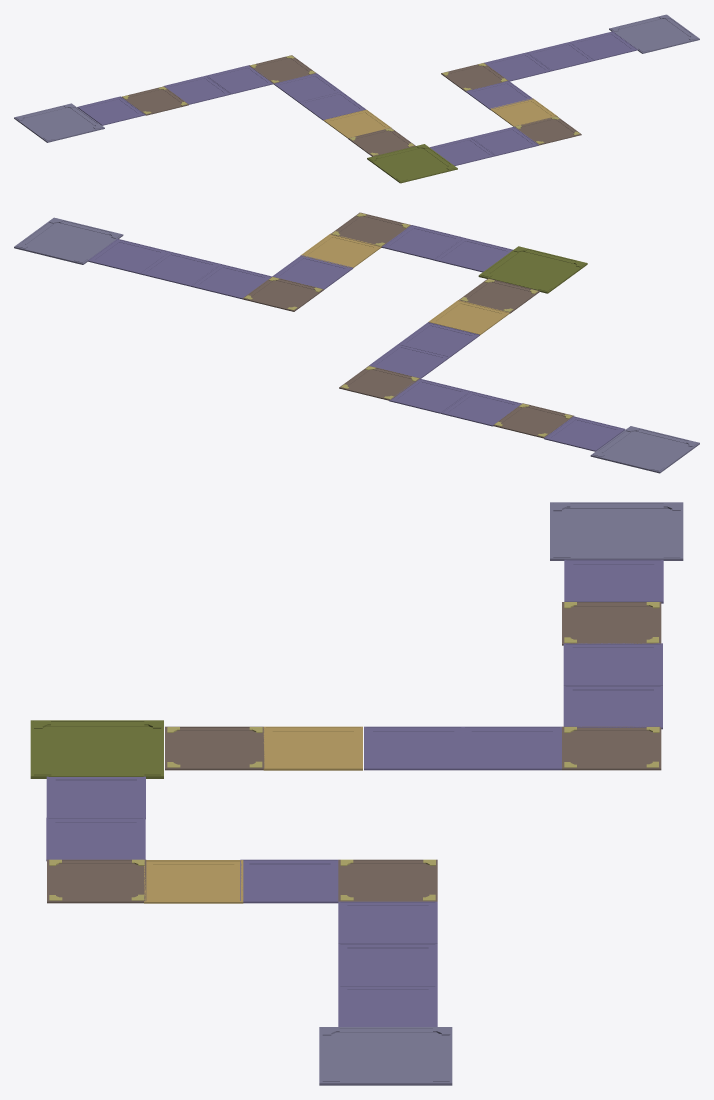
Rendered from map_stage_01.fbx.
3 views of the same model, one above another, from view 1: azimuth 30°, elevation 25°; view 2: azimuth 150°, elevation 25°; view 3: azimuth 270°, elevation 25° (orthographic). The views are drawn at different scales.
Visible parts, largest first — view 1: B_10, B_20, start, B_19, B_18, B_03, B_08, B_02, B_07, B_01, B_11, B_17 (+9 smaller); view 2: B_20, start, B_10, B_04, B_19, B_02, B_15, B_03, B_17, B_08, B_16, B_18 (+9 smaller); view 3: start, B_20, B_10, B_07, B_13, B_15, B_11, B_14, B_12, B_06, B_05, B_19 (+9 smaller).
Boxes of the visible parts, x1,y1,x2,y2 form: B_10: (367, 144, 457, 183); B_20: (14, 103, 104, 142); start: (609, 14, 699, 53); B_19: (77, 96, 145, 125); B_18: (121, 86, 188, 115); B_03: (484, 52, 551, 81); B_08: (471, 127, 538, 155); B_02: (527, 42, 594, 71); B_07: (514, 116, 581, 145); B_01: (570, 31, 637, 60); B_11: (348, 128, 415, 156); B_17: (163, 75, 230, 104); B_20: (590, 426, 699, 473); start: (14, 217, 123, 264); B_10: (478, 246, 587, 293); B_04: (242, 276, 323, 311); B_19: (544, 416, 625, 451); B_02: (139, 251, 220, 286); B_15: (339, 366, 420, 400); B_03: (191, 264, 271, 299); B_17: (441, 391, 521, 426); B_08: (382, 225, 462, 260); B_16: (389, 378, 470, 413); B_18: (493, 403, 573, 438); start: (319, 1027, 452, 1085); B_20: (550, 502, 683, 560); B_10: (30, 720, 163, 778); B_07: (47, 859, 146, 903); B_13: (364, 726, 463, 770); B_15: (562, 726, 661, 770); B_11: (165, 726, 264, 770); B_14: (462, 726, 561, 770); B_12: (263, 726, 362, 770); B_06: (144, 860, 243, 903); B_05: (240, 859, 338, 903); B_19: (564, 559, 663, 603).
Size of the model in its own units: 212 by 0.5096 by 101.
